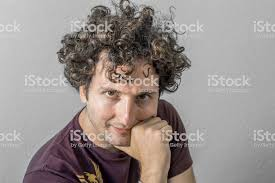white_male: (82, 53, 173, 147)
